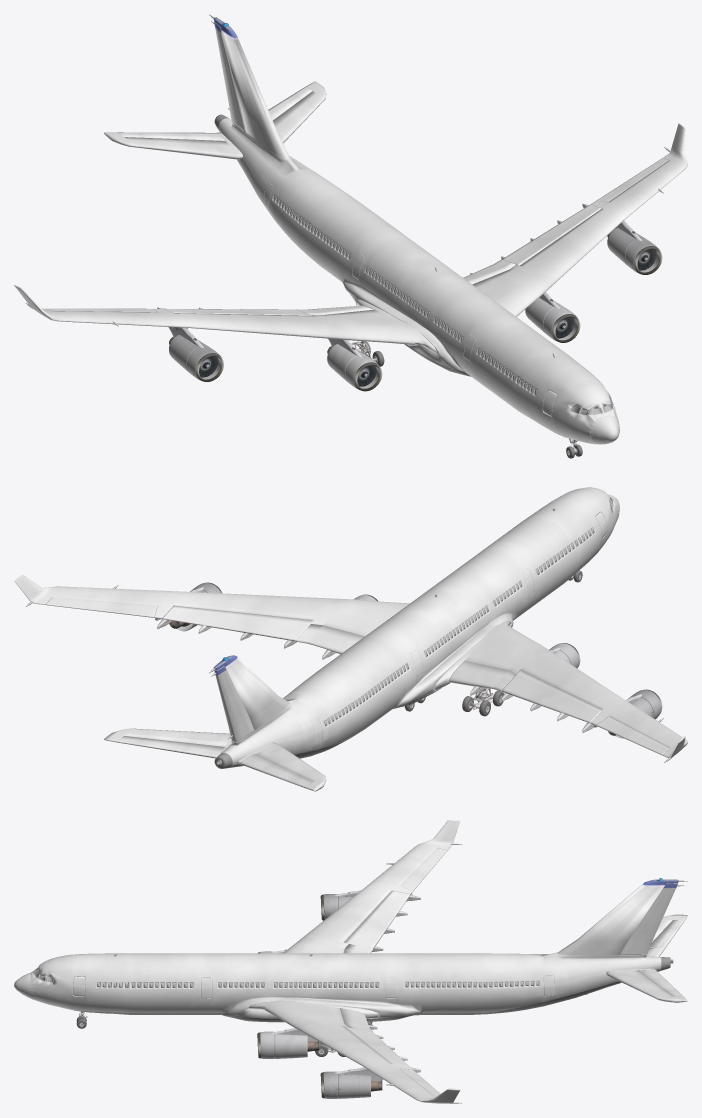
3 renders of one model, top to bottom at view 1: azimuth 30°, elevation 25°; view 2: azimuth 150°, elevation 25°; view 3: azimuth 270°, elevation 25°, orthographic. The views are drawn at different scales.
Visible parts, largest first — view 1: A340_HN_Null_A340_Fbx_Root_A340_Body_a340_mainbodySG_0, A340_HN_Null_A340_Fbx_Root_A340_Body_A340_wing_R_a340_wingSG, A340_Engine2_A340_HN_Null_A340_Fbx_Root_a340_engineSG_0, A340_Engine2_A340_HN_Null_A340_Fbx_Root_a340_engine_blackSG_, A340_Engine2_A340_HN_Null_A340_Fbx_Root_A340_Engine2_L_a340_, A340_Engine2_A340_HN_Null_A340_Fbx_Root_a340_engine_trimSG_0, A340_Engine2_A340_HN_Null_A340_Fbx_Root_a340_engine_supportS; view 2: A340_HN_Null_A340_Fbx_Root_A340_Body_a340_mainbodySG_0, A340_HN_Null_A340_Fbx_Root_A340_Body_A340_wing_R_a340_wingSG, A340_Engine2_A340_HN_Null_A340_Fbx_Root_a340_engine_blackSG_, A340_Engine2_A340_HN_Null_A340_Fbx_Root_a340_engineSG_0; view 3: A340_HN_Null_A340_Fbx_Root_A340_Body_a340_mainbodySG_0, A340_HN_Null_A340_Fbx_Root_A340_Body_A340_wing_R_a340_wingSG, A340_Engine2_A340_HN_Null_A340_Fbx_Root_a340_engineSG_0, A340_Engine2_A340_HN_Null_A340_Fbx_Root_a340_engine_blackSG_, A340_Engine2_A340_HN_Null_A340_Fbx_Root_a340_engine_supportS.
Part boxes in pixels (box(x1,y1,x2,y2)): A340_HN_Null_A340_Fbx_Root_A340_Body_a340_mainbodySG_0: box(213, 17, 619, 444); A340_HN_Null_A340_Fbx_Root_A340_Body_A340_wing_R_a340_wingSG: box(14, 81, 687, 352); A340_Engine2_A340_HN_Null_A340_Fbx_Root_a340_engineSG_0: box(169, 227, 659, 389); A340_Engine2_A340_HN_Null_A340_Fbx_Root_a340_engine_blackSG_: box(25, 14, 670, 458); A340_Engine2_A340_HN_Null_A340_Fbx_Root_A340_Engine2_L_a340_: box(199, 249, 656, 386); A340_Engine2_A340_HN_Null_A340_Fbx_Root_a340_engine_trimSG_0: box(195, 246, 662, 391); A340_Engine2_A340_HN_Null_A340_Fbx_Root_a340_engine_supportS: box(168, 220, 641, 357); A340_HN_Null_A340_Fbx_Root_A340_Body_a340_mainbodySG_0: box(213, 487, 619, 768); A340_HN_Null_A340_Fbx_Root_A340_Body_A340_wing_R_a340_wingSG: box(14, 574, 687, 791); A340_Engine2_A340_HN_Null_A340_Fbx_Root_a340_engine_blackSG_: box(25, 498, 672, 762); A340_Engine2_A340_HN_Null_A340_Fbx_Root_a340_engineSG_0: box(176, 582, 661, 738); A340_HN_Null_A340_Fbx_Root_A340_Body_a340_mainbodySG_0: box(14, 879, 678, 1022); A340_HN_Null_A340_Fbx_Root_A340_Body_A340_wing_R_a340_wingSG: box(249, 820, 687, 1103); A340_Engine2_A340_HN_Null_A340_Fbx_Root_a340_engineSG_0: box(260, 894, 370, 1098); A340_Engine2_A340_HN_Null_A340_Fbx_Root_a340_engine_blackSG_: box(33, 843, 687, 1103); A340_Engine2_A340_HN_Null_A340_Fbx_Root_a340_engine_supportS: box(271, 890, 412, 1081).
Size of the model in its own units: 58.11 by 15.04 by 61.42.
8 materials, 8 textured.
